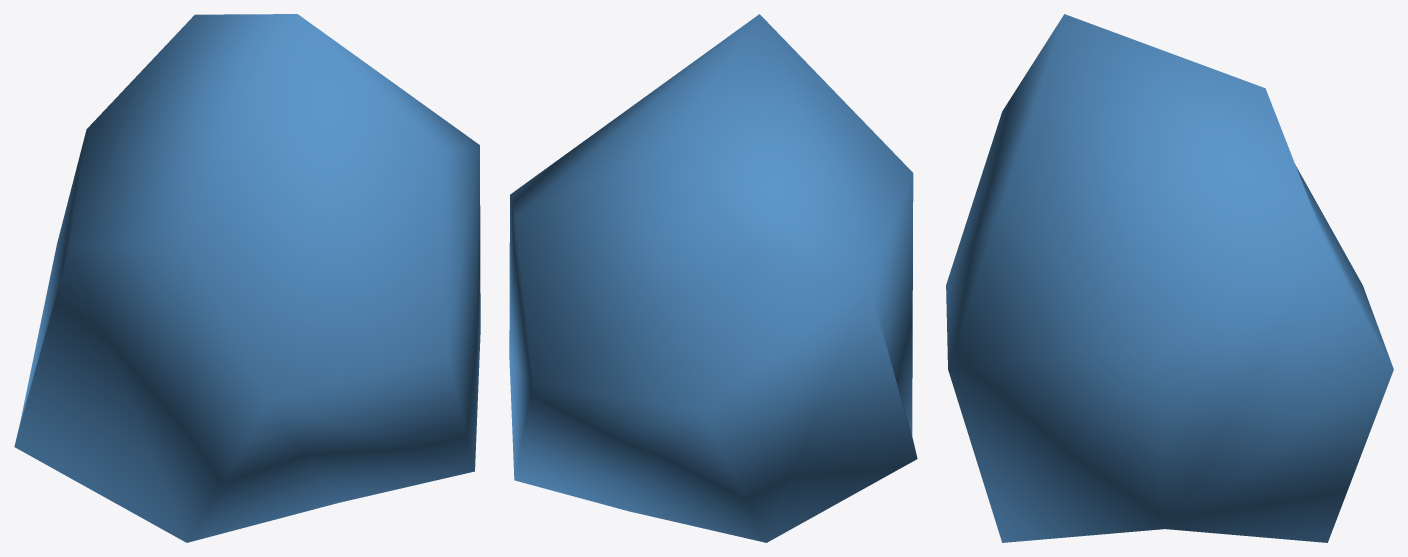
File: small_Iceboulder.fbx
The picture shows the model from 3 angles, left to right: view 1: azimuth 30°, elevation 25°; view 2: azimuth 150°, elevation 25°; view 3: azimuth 270°, elevation 25°; orthographic projection. The views are drawn at different scales.
Visible parts, largest first — view 1: pSolid5; view 2: pSolid5; view 3: pSolid5.
Part boxes in pixels (box(x1,y1,x2,y2)): pSolid5: box(14, 14, 480, 542); pSolid5: box(509, 14, 917, 542); pSolid5: box(946, 14, 1393, 542).
Bounding box in the file's own units: 45.26 × 43.68 × 38.49.
